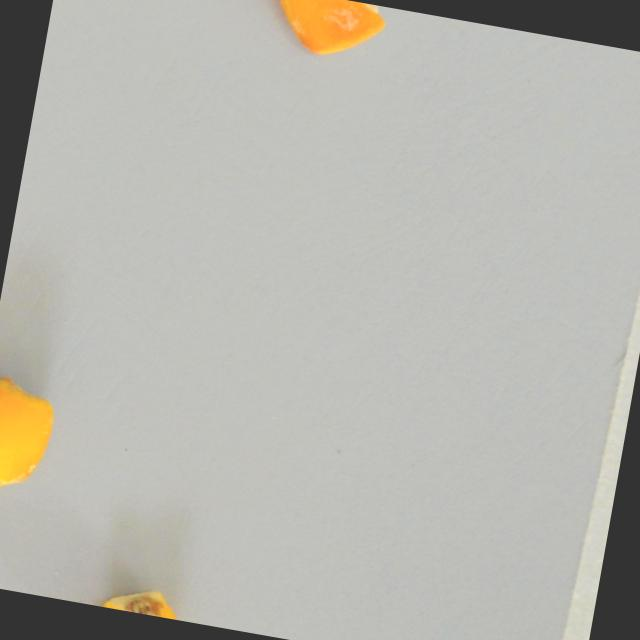dañado: (95, 576, 200, 623)
pelicula: (245, 0, 388, 65), (0, 374, 60, 499)
